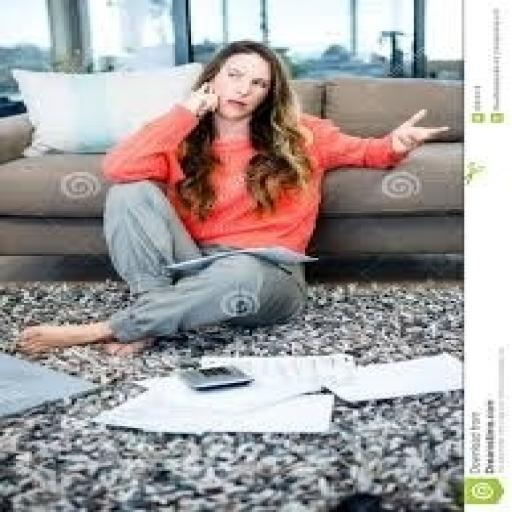calling: (13, 39, 451, 360)
